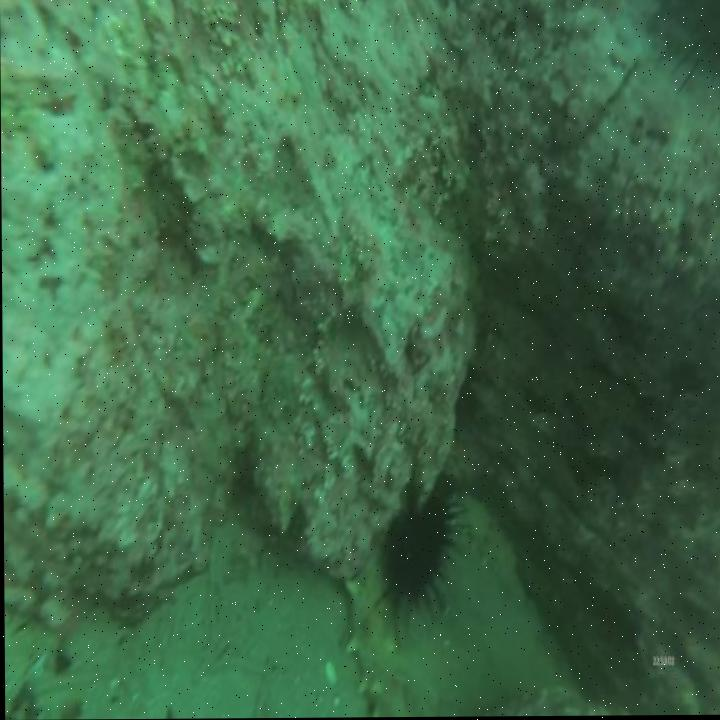echinus: (390, 490, 451, 600)
holothurian: (344, 556, 407, 718)
scallop: (323, 656, 339, 693)
